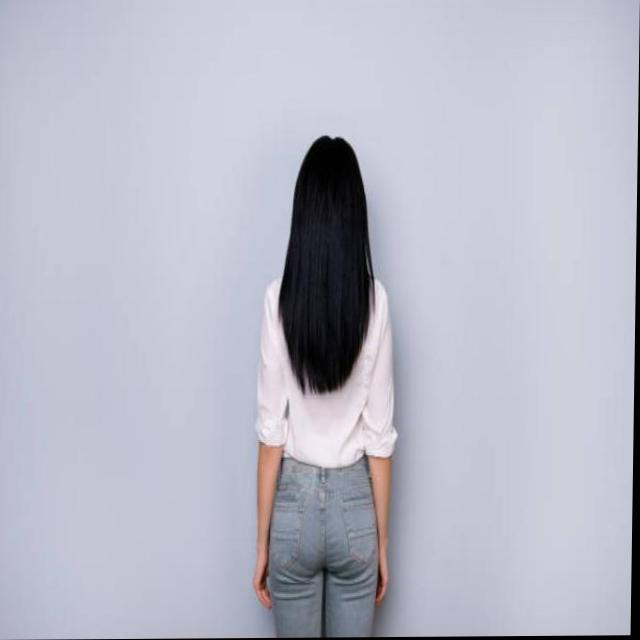no helmet: (282, 131, 378, 402)
